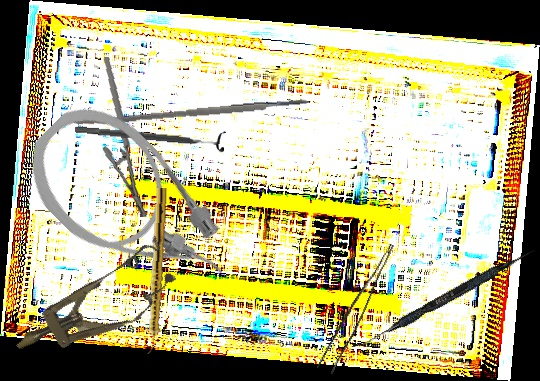Cannula: (7, 85, 251, 328)
Fixation Ring: (74, 117, 226, 154)
Handpiece: (144, 187, 168, 355)
Needle Holder: (87, 56, 164, 218)
Scalpel Handle: (73, 97, 310, 129)
Spatula Surgical: (352, 242, 537, 356)
Speculum: (1, 236, 187, 376)
Tissue Forceps: (316, 236, 395, 377)
